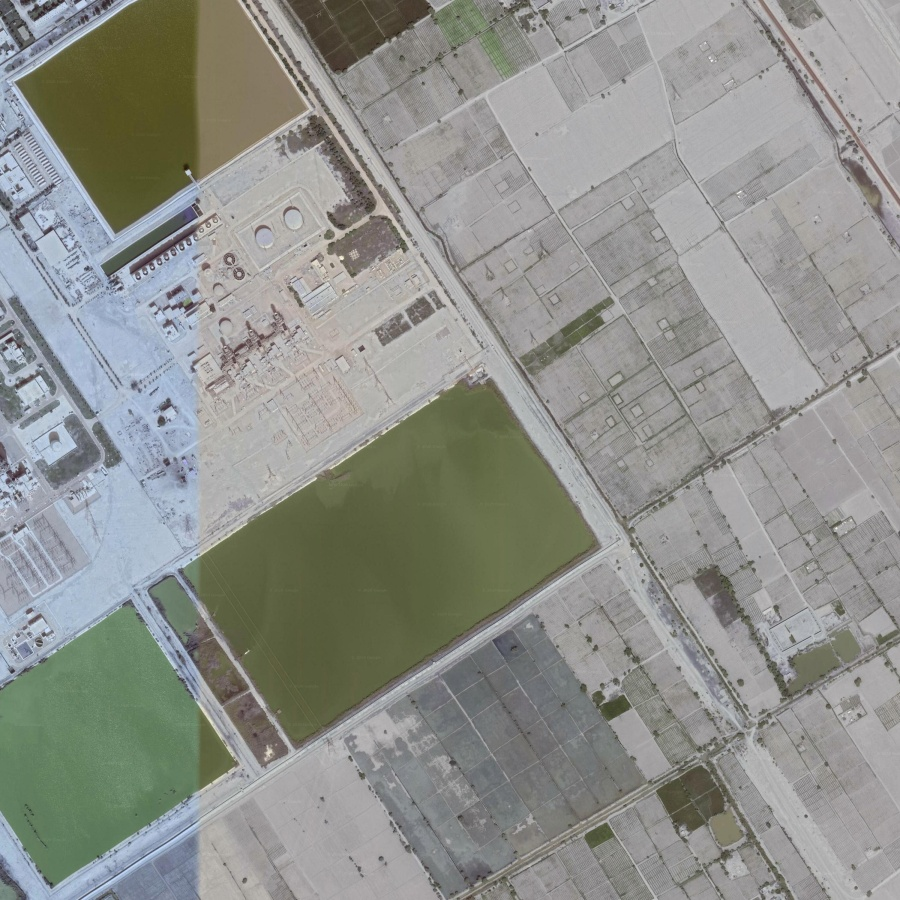PowerPlant: (148, 207, 343, 400)
